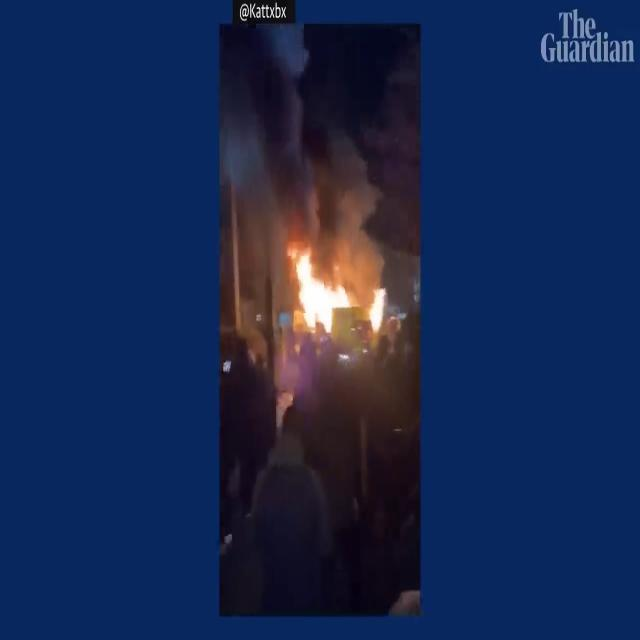Fire: (284, 244, 354, 338), (366, 280, 388, 336)
Smoke: (219, 17, 323, 245)
